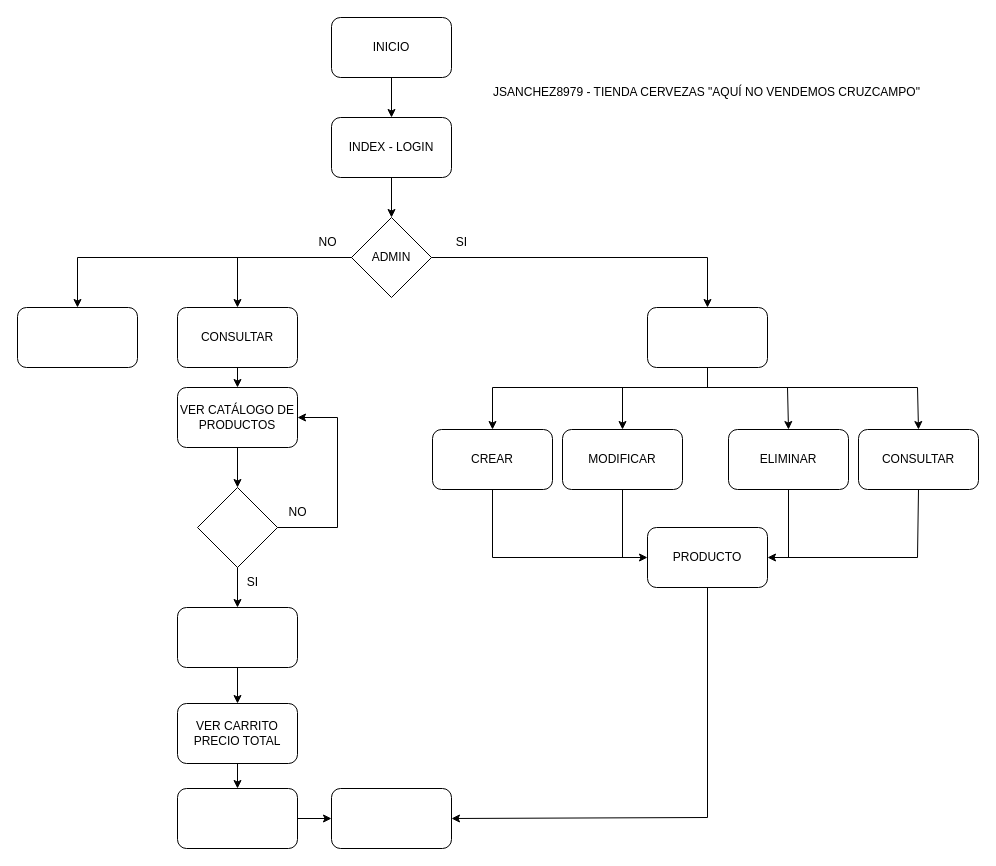
This 996x866 diagram has some shape labels left out. The centre of each missing label's shape, as x and y in pixels:
ACCESO BBDD: point (707, 337)
AÑADIR PRODUCTO AL CARRITO: point (237, 637)
COMPRAR: point (237, 818)
FIN: point (391, 818)
STOCK: point (237, 527)
TIENE CARRITO: point (77, 337)
